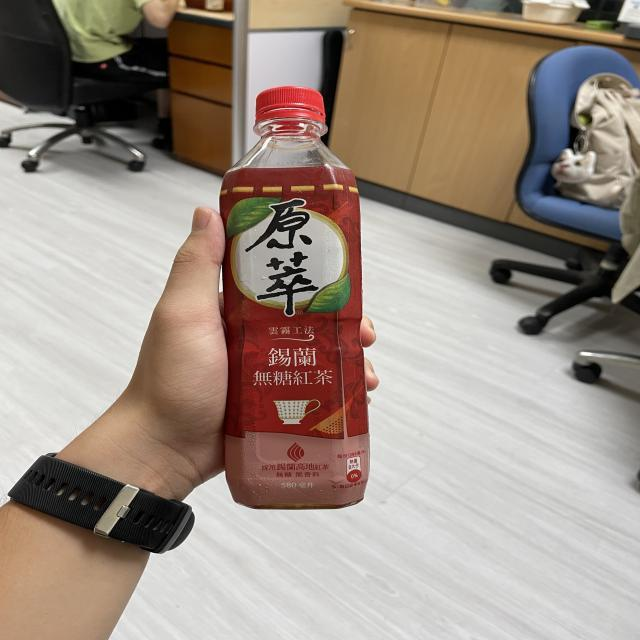YuanTsui_BlackTea: (193, 78, 397, 518)
